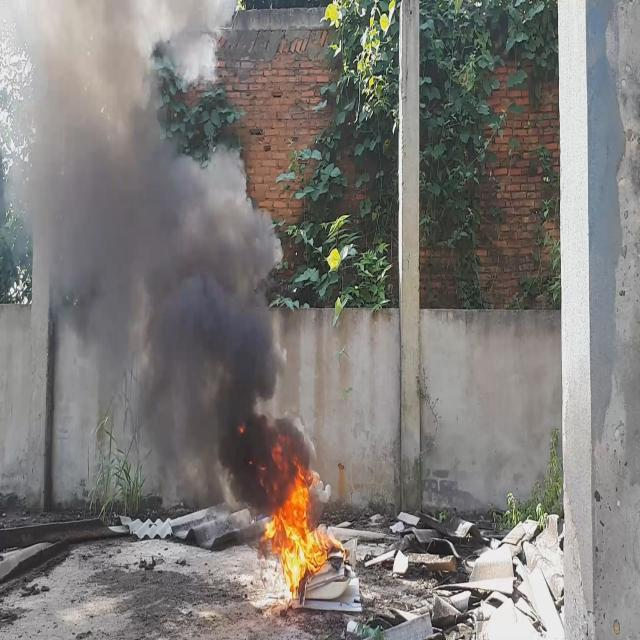Fire: (256, 468, 334, 595)
Smoke: (0, 0, 332, 511)
